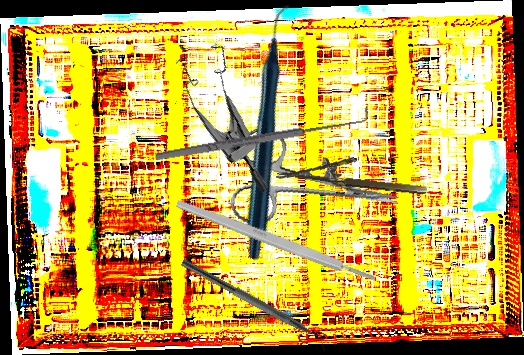Chopper: (175, 258, 333, 355)
Handpiece: (142, 1, 400, 263)
Hook Surgical: (151, 106, 373, 164)
Iris Scissors: (227, 125, 407, 251)
Needle Holder: (276, 148, 430, 197)
Scalpel Handle: (174, 197, 378, 286)
Speculum: (153, 31, 316, 194)
